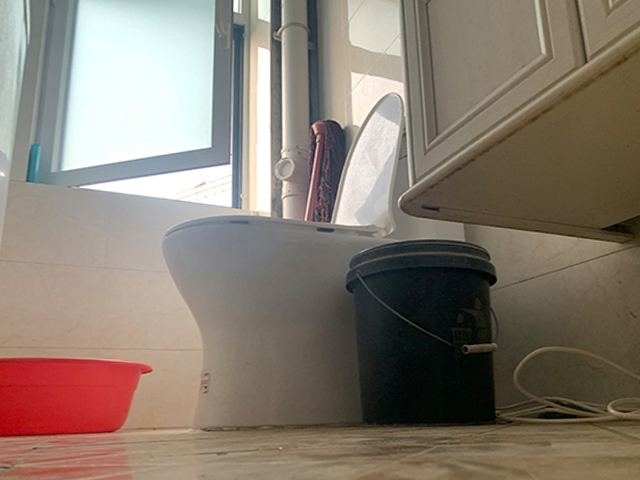closestool: (161, 92, 465, 429)
wire: (497, 345, 640, 428)
